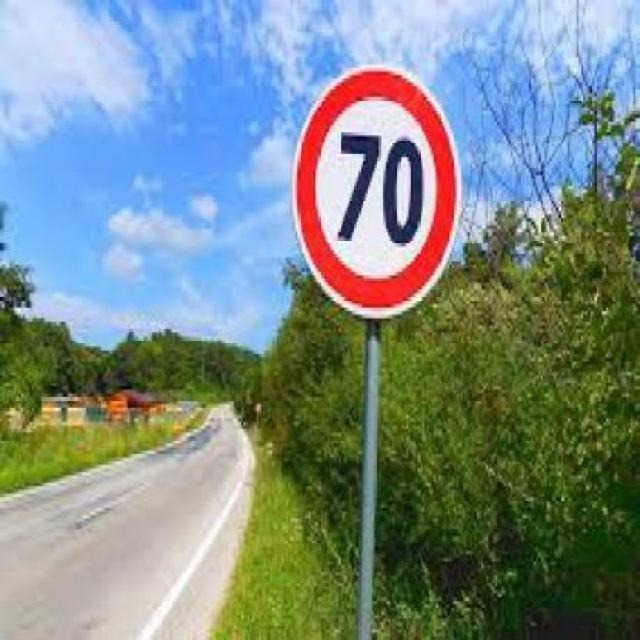forb_speed_over_70: (296, 68, 459, 317)
